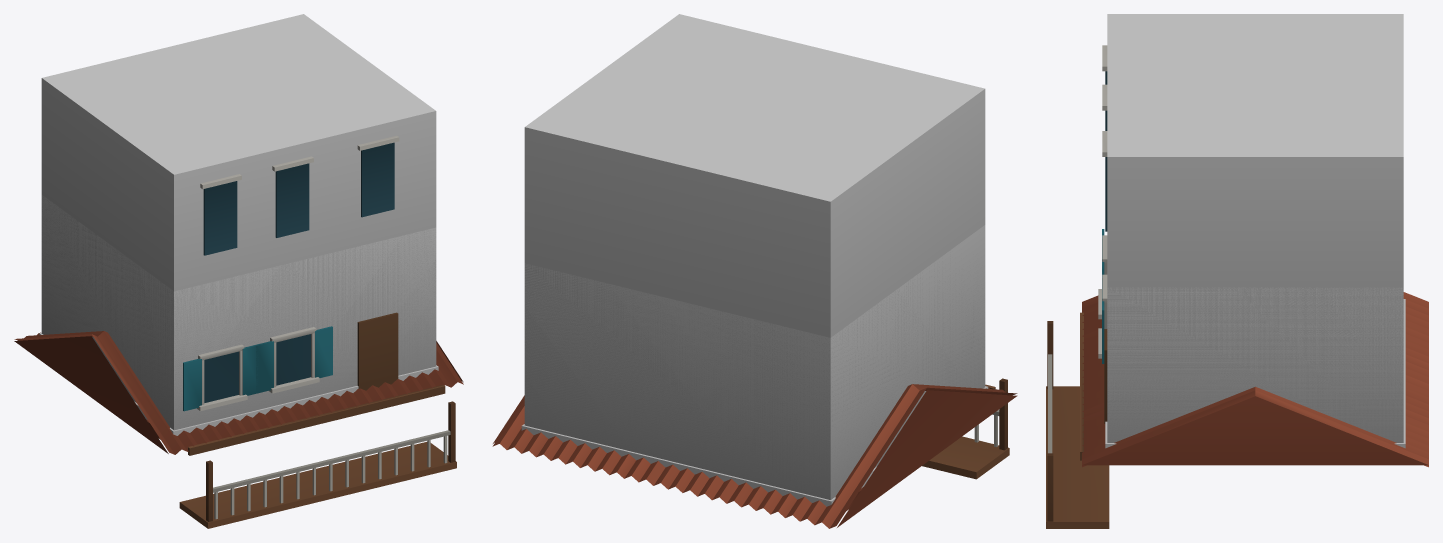
Rendered from sanjuan.glb.
3 renders of one model, left to right at view 1: azimuth 30°, elevation 25°; view 2: azimuth 150°, elevation 25°; view 3: azimuth 270°, elevation 25°, orthographic. The views are drawn at different scales.
Parts seen in each view (by area): view 1: playa-wall.001, playa-wall, playa-roof, playa-wood, casa-glass.004, playa-shutter, playa-rail, casa-glass.003, casa-door.003, casa-frame.003, casa-frame.004; view 2: playa-wall.001, playa-wall, playa-roof, playa-wood; view 3: playa-wall.001, playa-wall, playa-roof, playa-wood, casa-frame.003, playa-rail, casa-frame.004.
Part boxes in pixels (box(x1,y1,x2,y2)): playa-wall.001: box(41, 14, 436, 429); playa-wall: box(39, 195, 438, 435); playa-roof: box(14, 331, 463, 454); playa-wood: box(179, 385, 456, 528); casa-glass.004: box(203, 142, 394, 255); playa-shutter: box(183, 326, 332, 411); playa-rail: box(213, 430, 450, 519); casa-glass.003: box(204, 334, 310, 402); casa-door.003: box(357, 312, 398, 390); casa-frame.003: box(197, 327, 319, 411); casa-frame.004: box(200, 135, 399, 383); playa-wall.001: box(524, 14, 985, 499); playa-wall: box(521, 225, 988, 506); playa-roof: box(492, 384, 1017, 528); playa-wood: box(922, 378, 1009, 479); playa-wall.001: box(1107, 14, 1403, 442); playa-wall: box(1105, 287, 1405, 448); playa-roof: box(1082, 292, 1428, 467); playa-wood: box(1046, 312, 1109, 528); casa-frame.003: box(1098, 235, 1107, 358); playa-rail: box(1048, 354, 1052, 453); casa-frame.004: box(1102, 45, 1107, 156).
Bounding box in the file's own units: 9 × 9.79 × 9.05.
